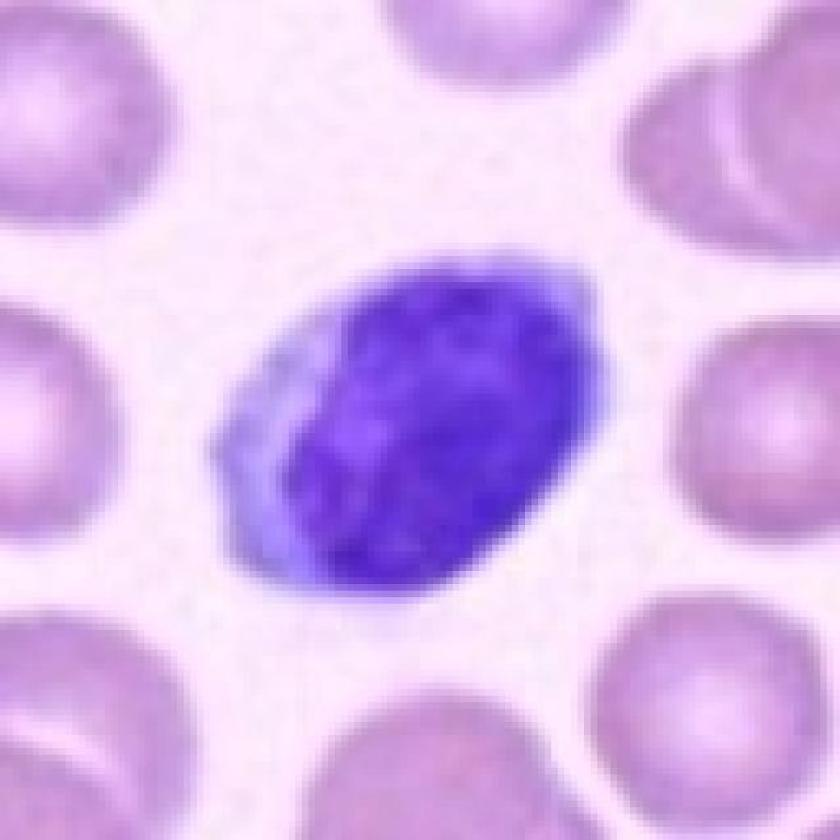lymphocyte: (197, 240, 615, 602)
